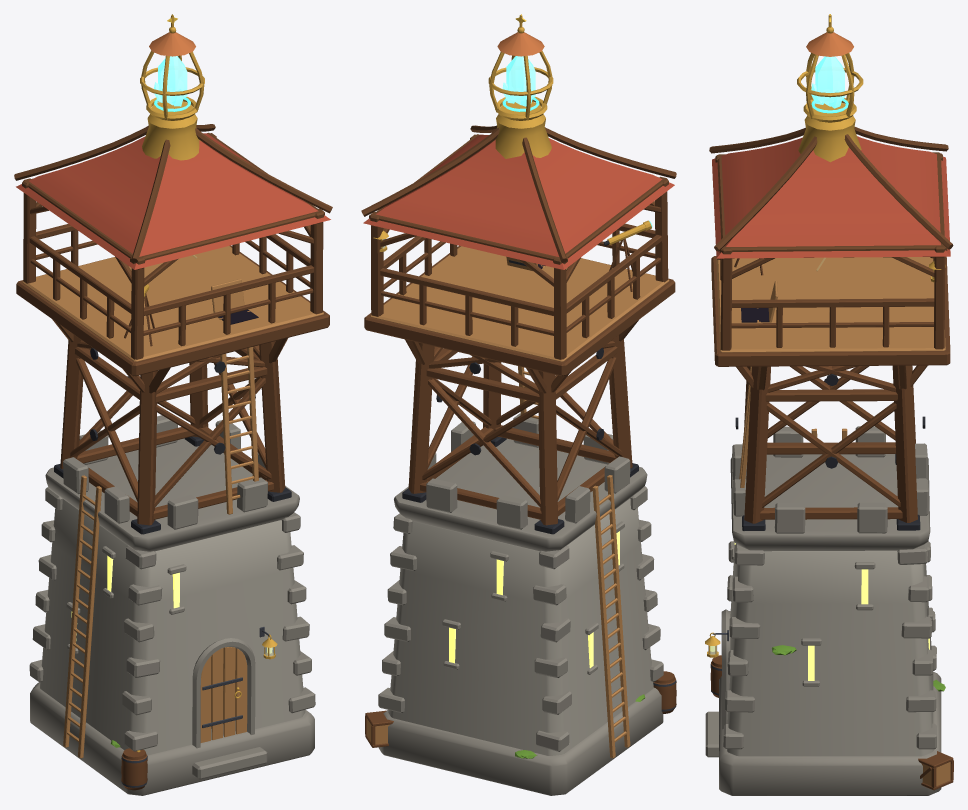
File: bld_watchtower.glb
3 views of the same model, side by side, from view 1: azimuth 30°, elevation 25°; view 2: azimuth 150°, elevation 25°; view 3: azimuth 270°, elevation 25° (orthographic).
Visible parts, largest first — view 1: Watchtower; view 2: Watchtower; view 3: Watchtower.
Boxes of the visible parts, box(x1,y1,x2,y2) form: Watchtower: box(14, 14, 332, 795); Watchtower: box(361, 14, 676, 795); Watchtower: box(705, 14, 953, 795).
Size of what is drawn, in the model's own units: 5.05 by 16.82 by 5.15.
